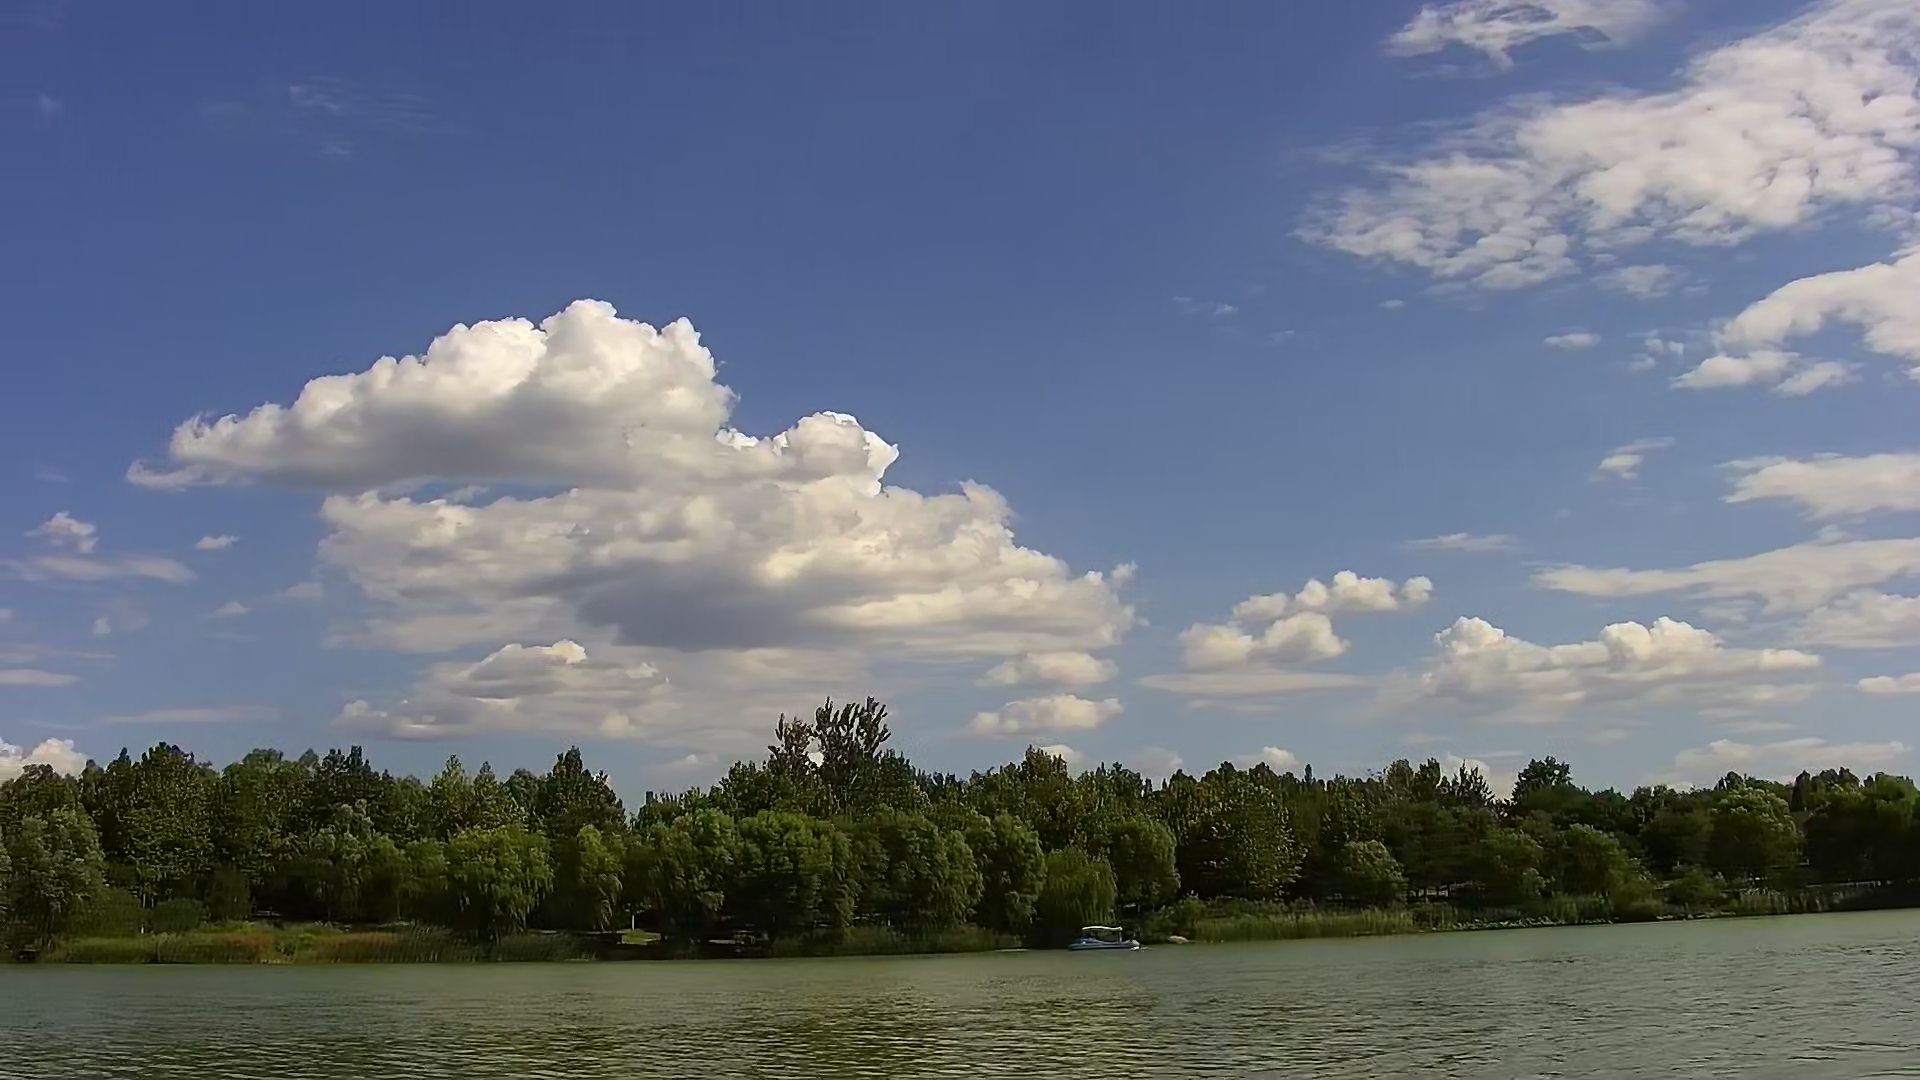boat: (1065, 919, 1145, 956)
